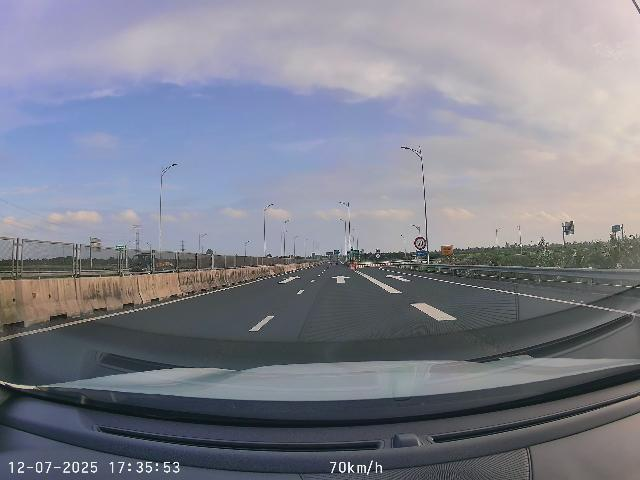127-toc-do-toi-da-50: (414, 236, 426, 250)
